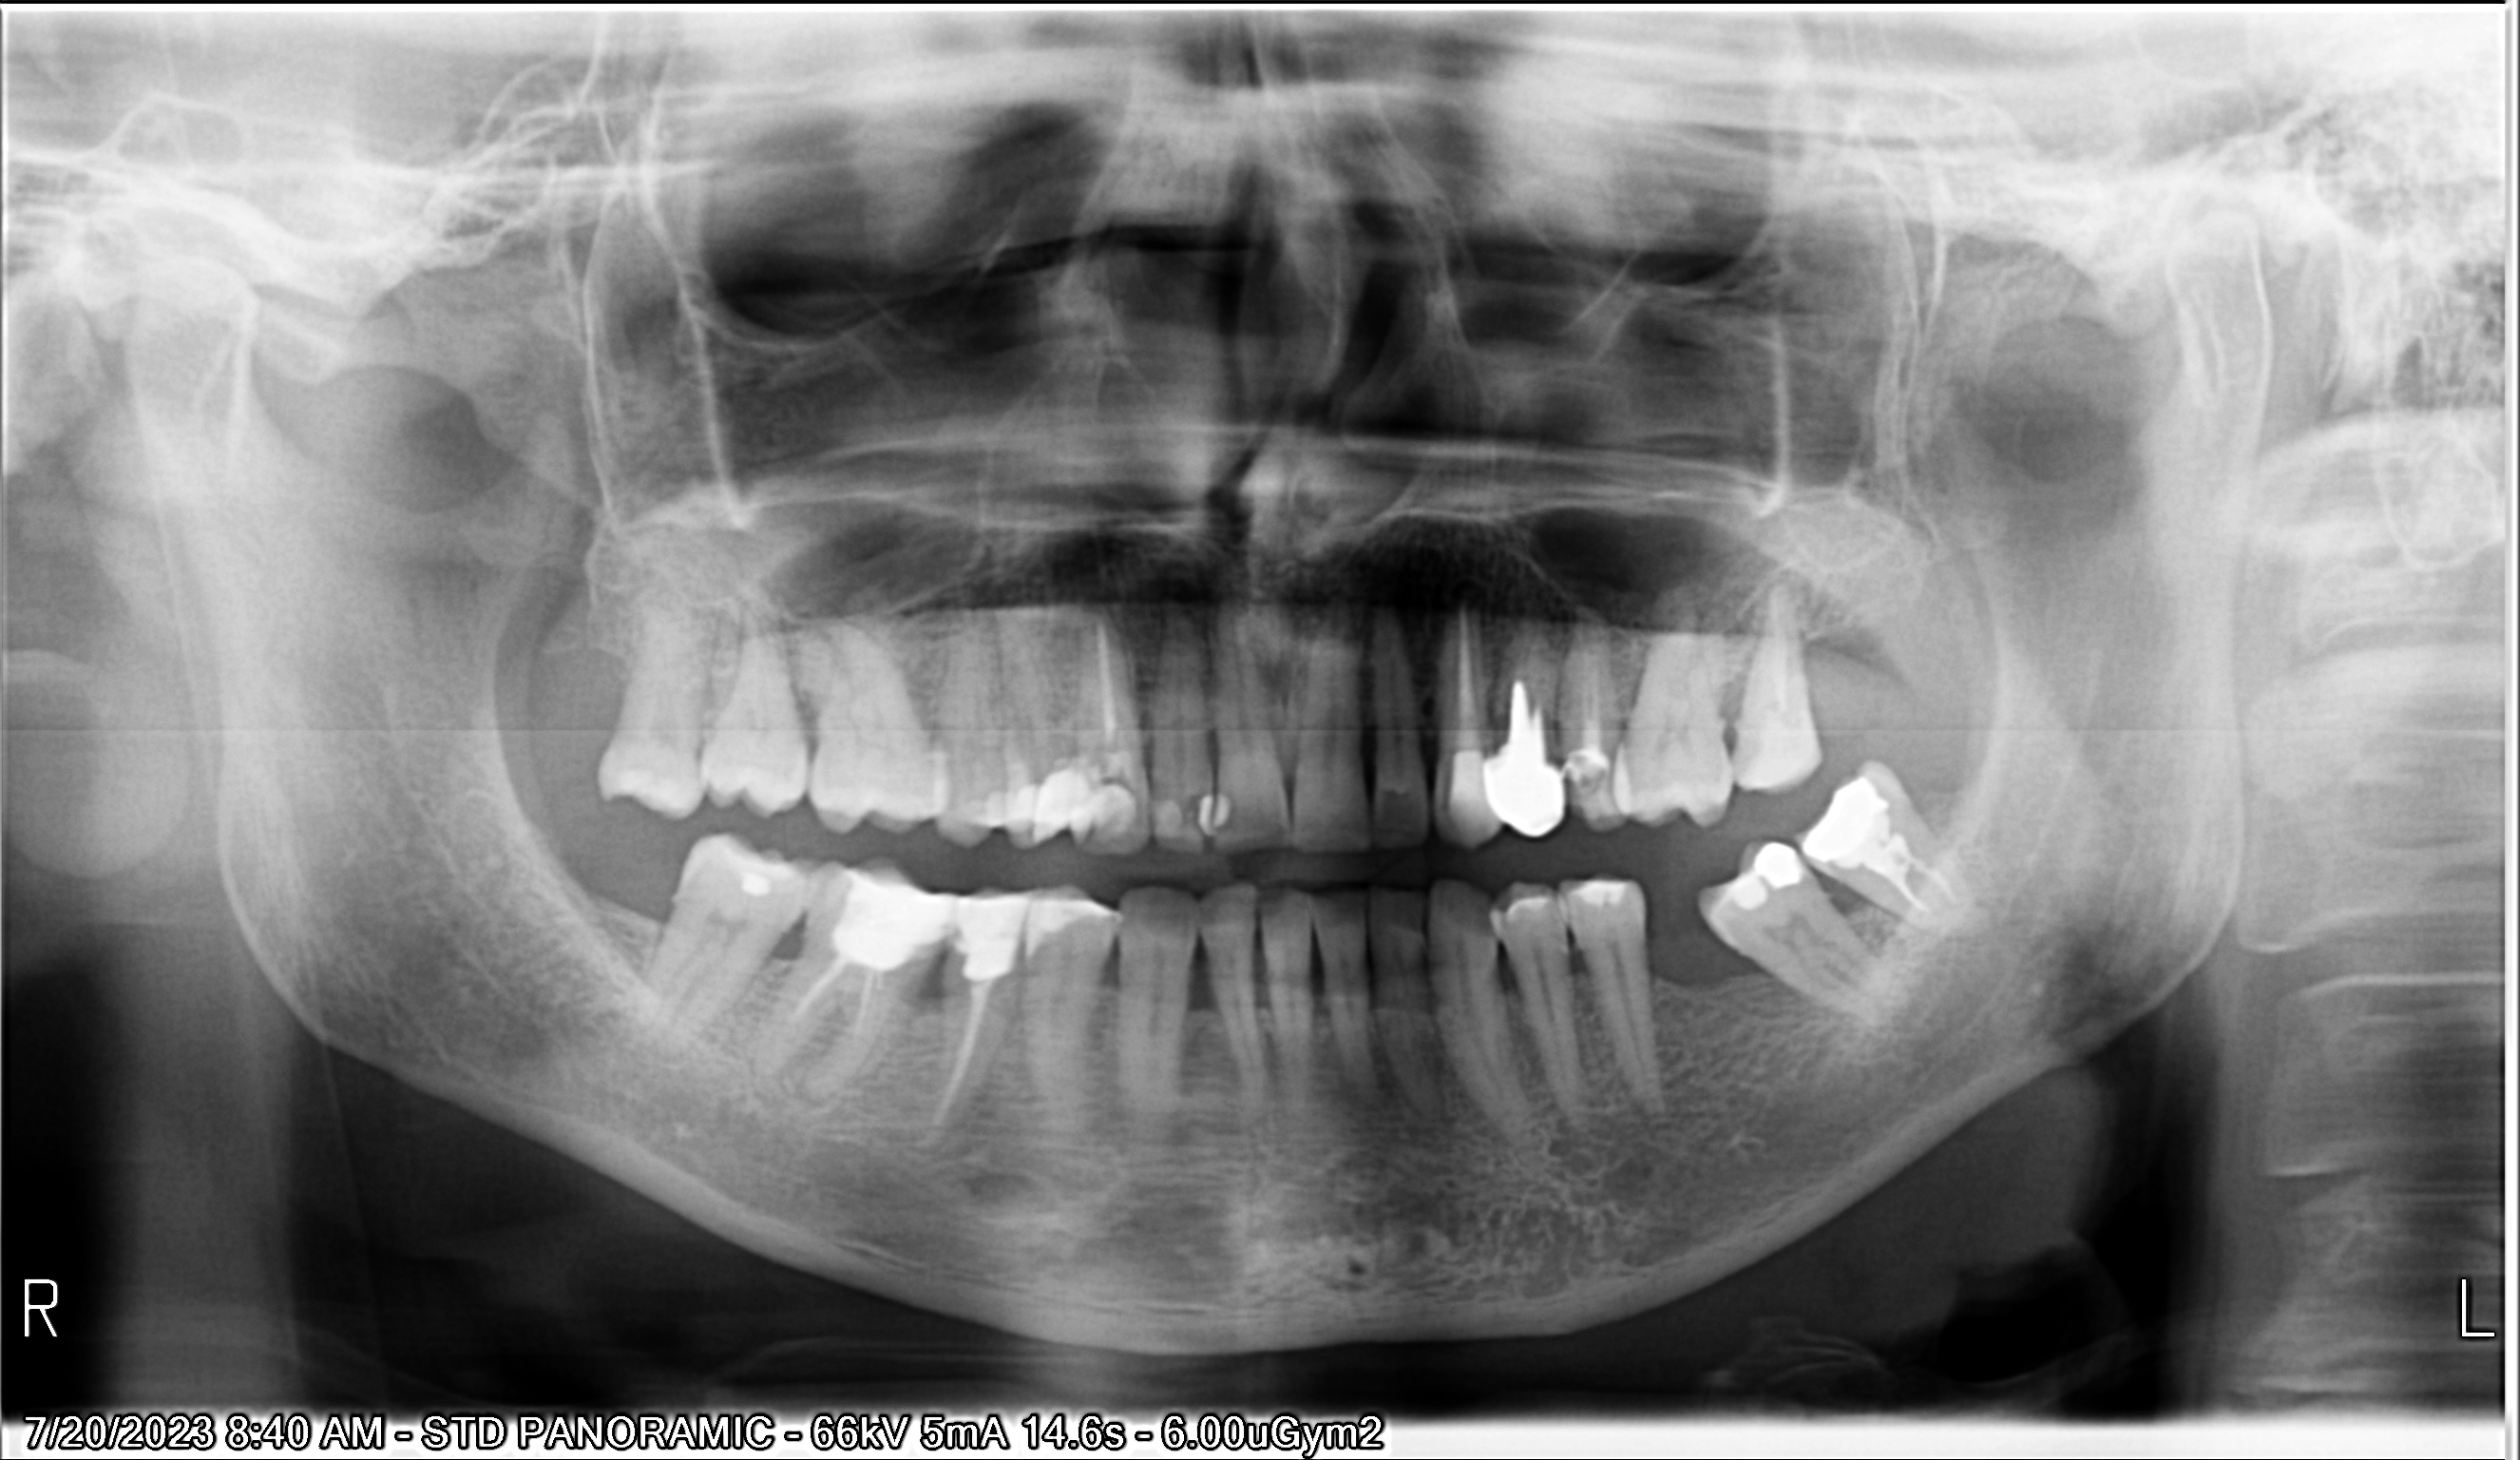BON: (794, 681, 823, 758), (1249, 961, 1271, 1013), (1362, 970, 1388, 1015), (1827, 888, 1857, 926), (1309, 963, 1334, 1008), (1726, 671, 1742, 739), (1191, 968, 1216, 1008), (1497, 959, 1520, 1001), (1426, 961, 1441, 1015), (1570, 954, 1589, 992), (922, 968, 936, 1019)
CAR: (1101, 763, 1138, 786)
END: (1082, 615, 1131, 749), (964, 980, 988, 1144), (1775, 582, 1798, 737), (1513, 641, 1544, 753), (783, 963, 823, 1045), (839, 982, 865, 1085), (1459, 605, 1474, 746), (1586, 631, 1603, 753), (1923, 857, 1969, 900), (1890, 886, 1935, 926)
OBT: (851, 878, 947, 975), (934, 902, 1023, 952), (1815, 793, 1890, 852), (1452, 756, 1494, 850), (1035, 888, 1098, 946), (986, 770, 1028, 841), (1160, 777, 1202, 848), (1101, 793, 1153, 841), (1572, 733, 1612, 789), (735, 860, 778, 904), (1733, 878, 1773, 914), (1065, 784, 1087, 843), (1205, 786, 1223, 838), (1586, 886, 1636, 904), (1771, 843, 1798, 874), (1223, 793, 1242, 826)
PRR: (1504, 775, 1563, 831)
